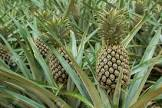Pineapple: (97, 9, 134, 91), (44, 16, 76, 85)
